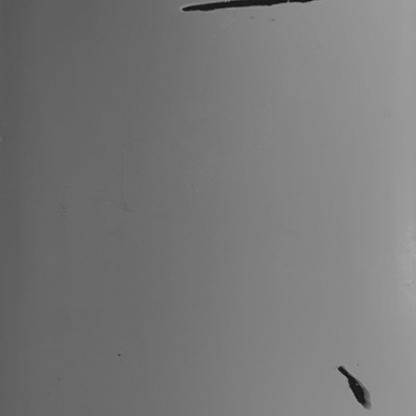fengxi: (181, 1, 314, 14)
kongdong: (337, 365, 376, 411)
